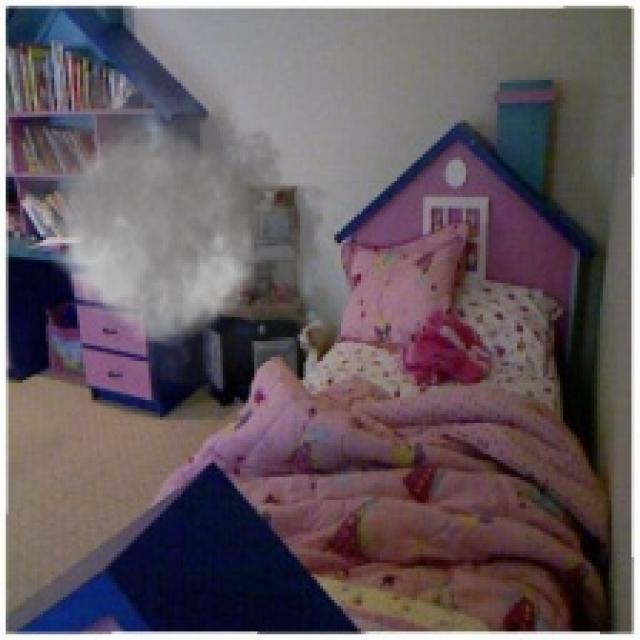Smoke: (2, 57, 352, 406)
